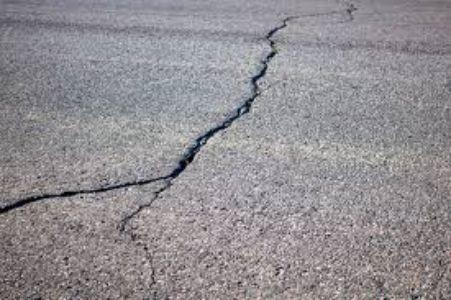crack: (11, 18, 321, 279)
